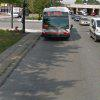Bus: (37, 2, 75, 41)
